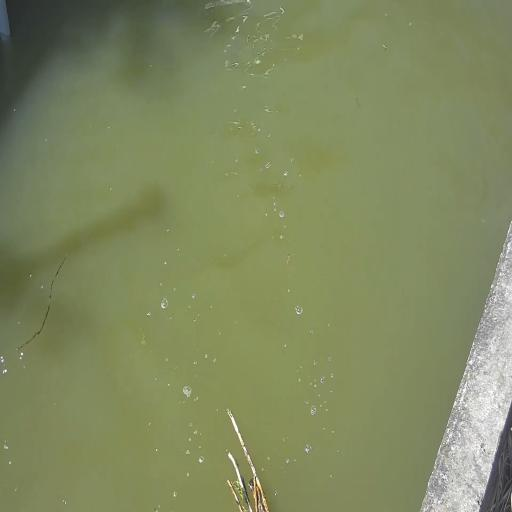twig: (217, 405, 286, 512)
